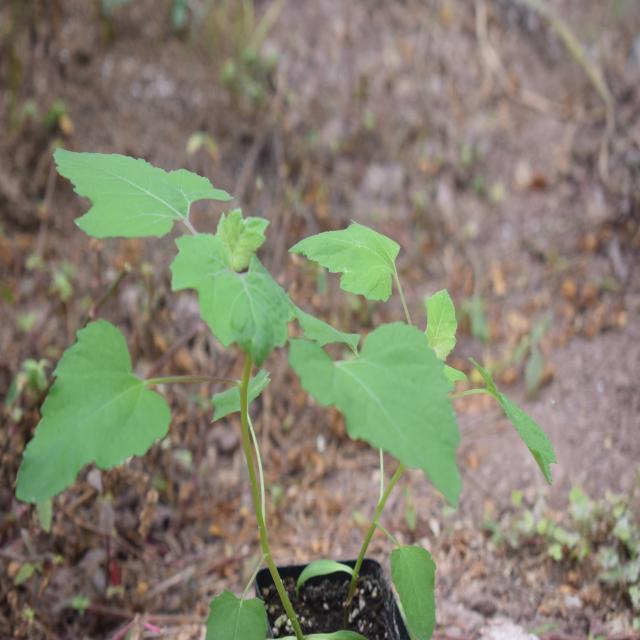cocklebur: (68, 117, 509, 571)
